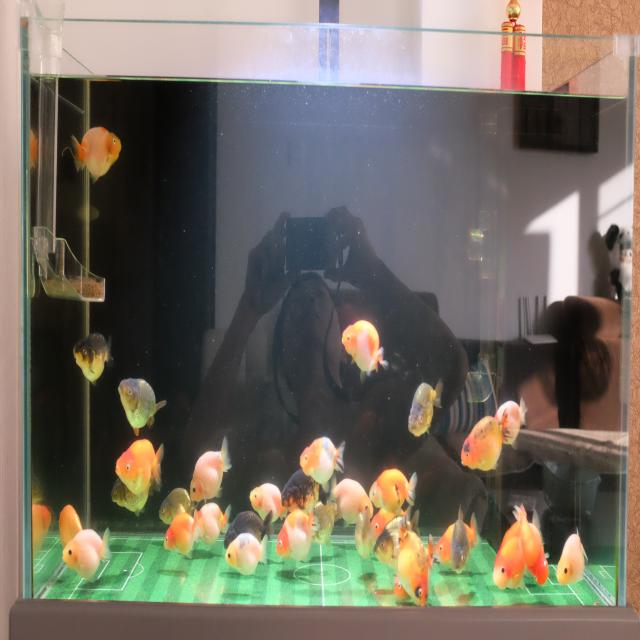Tilapia: (340, 310, 388, 382)
